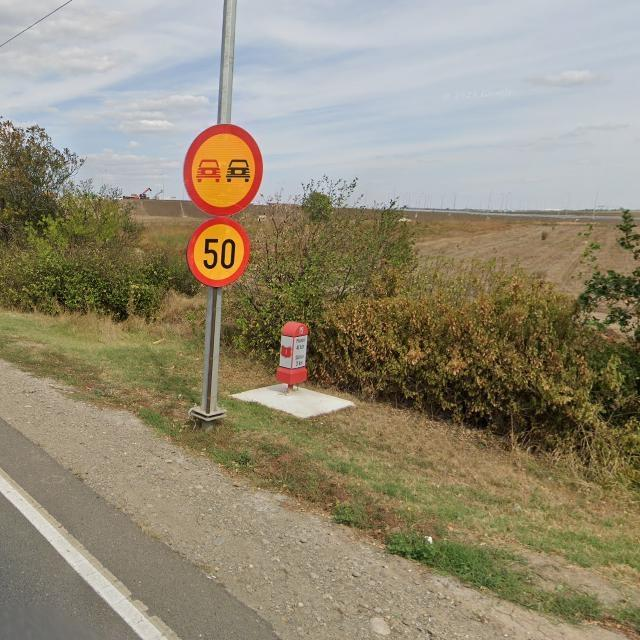forb_overtake: (184, 124, 264, 217)
forb_speed_over_50: (187, 218, 250, 287)
